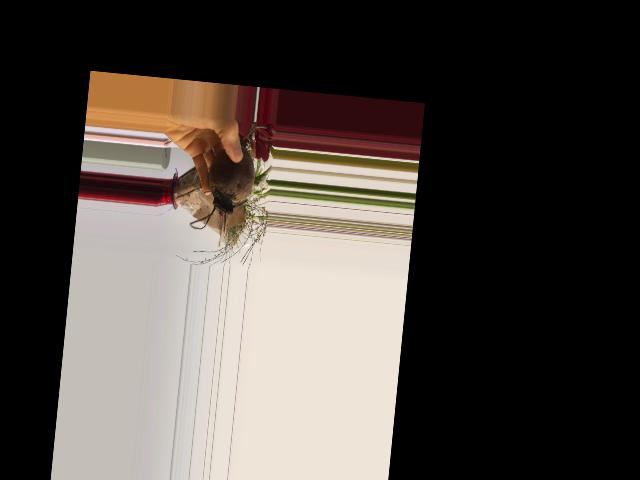beet: (189, 120, 266, 235)
